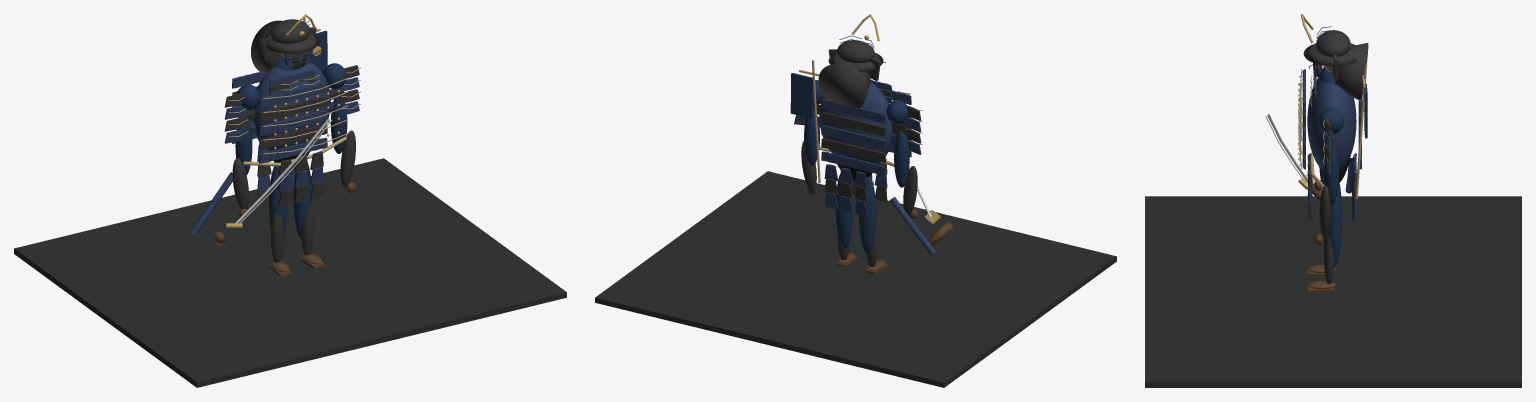
The model's file is actor-uesugi-06.glb.
3 views of the same model, side by side, from view 1: azimuth 30°, elevation 25°; view 2: azimuth 150°, elevation 25°; view 3: azimuth 270°, elevation 25° (orthographic). The views are drawn at different scales.
Parts seen in each view (by area): view 1: matte charcoal inspection plinth, rounded do cuirass silhouette, rear shikoro neck guard flare, segmented kabuto helmet bowl, right armored upper arm, right kote forearm guard, left kote forearm guard, wide kabuto brim, left hakama trouser leg, right hakama trouser leg, left armored upper arm, left shin greave (+2 smaller); view 2: matte charcoal inspection plinth, rear shikoro neck guard flare, rounded do cuirass silhouette, cloth sashimono banner panel, left hakama trouser leg, left armored upper arm, segmented kabuto helmet bowl, right hakama trouser leg, right armored upper arm, left kote forearm guard, lacquered saya scabbard at left hip; view 3: matte charcoal inspection plinth, rounded do cuirass silhouette, rear shikoro neck guard flare, segmented kabuto helmet bowl, right hakama trouser leg, wide kabuto brim, right armored upper arm, right kote forearm guard, right shoulder undercloth, right shin greave, bamboo sashimono back pole.
Boxes of the visible parts, x1=… form: matte charcoal inspection plinth: x1=14, y1=158, x2=566, y2=387; rounded do cuirass silhouette: x1=252, y1=62, x2=330, y2=151; rear shikoro neck guard flare: x1=251, y1=20, x2=283, y2=74; segmented kabuto helmet bowl: x1=270, y1=19, x2=310, y2=43; right armored upper arm: x1=330, y1=93, x2=347, y2=153; right kote forearm guard: x1=340, y1=130, x2=355, y2=187; left kote forearm guard: x1=232, y1=158, x2=248, y2=209; wide kabuto brim: x1=261, y1=33, x2=319, y2=53; left hakama trouser leg: x1=269, y1=166, x2=287, y2=234; right hakama trouser leg: x1=293, y1=163, x2=311, y2=239; left armored upper arm: x1=235, y1=116, x2=252, y2=175; left shin greave: x1=271, y1=213, x2=284, y2=262; matte charcoal inspection plinth: x1=595, y1=171, x2=1116, y2=387; rear shikoro neck guard flare: x1=818, y1=61, x2=870, y2=108; rounded do cuirass silhouette: x1=819, y1=82, x2=893, y2=164; cloth sashimono banner panel: x1=790, y1=73, x2=813, y2=118; left hakama trouser leg: x1=859, y1=176, x2=876, y2=253; left armored upper arm: x1=894, y1=130, x2=909, y2=187; segmented kabuto helmet bowl: x1=837, y1=40, x2=874, y2=62; right hakama trouser leg: x1=835, y1=173, x2=852, y2=248; right armored upper arm: x1=804, y1=110, x2=819, y2=165; left kote forearm guard: x1=903, y1=166, x2=917, y2=215; lacquered saya scabbard at left hip: x1=889, y1=197, x2=935, y2=254; matte charcoal inspection plinth: x1=1145, y1=196, x2=1521, y2=387; rounded do cuirass silhouette: x1=1307, y1=76, x2=1356, y2=170; rear shikoro neck guard flare: x1=1335, y1=43, x2=1368, y2=99; segmented kabuto helmet bowl: x1=1316, y1=30, x2=1350, y2=56; right hakama trouser leg: x1=1328, y1=189, x2=1341, y2=267; wide kabuto brim: x1=1303, y1=43, x2=1356, y2=66; right armored upper arm: x1=1323, y1=142, x2=1339, y2=204; right kote forearm guard: x1=1319, y1=185, x2=1330, y2=238; right shoulder undercloth: x1=1319, y1=108, x2=1343, y2=134; right shin greave: x1=1324, y1=235, x2=1334, y2=283; bamboo sashimono back pole: x1=1355, y1=63, x2=1367, y2=198.
Bounding box in the file's own units: 4.2 × 2.96 × 3.6.
